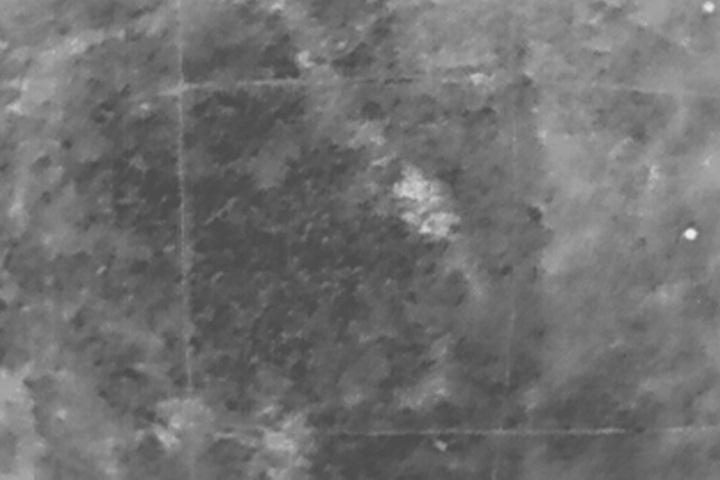landmine: (416, 207, 449, 235), (681, 223, 702, 244), (702, 0, 717, 16)
